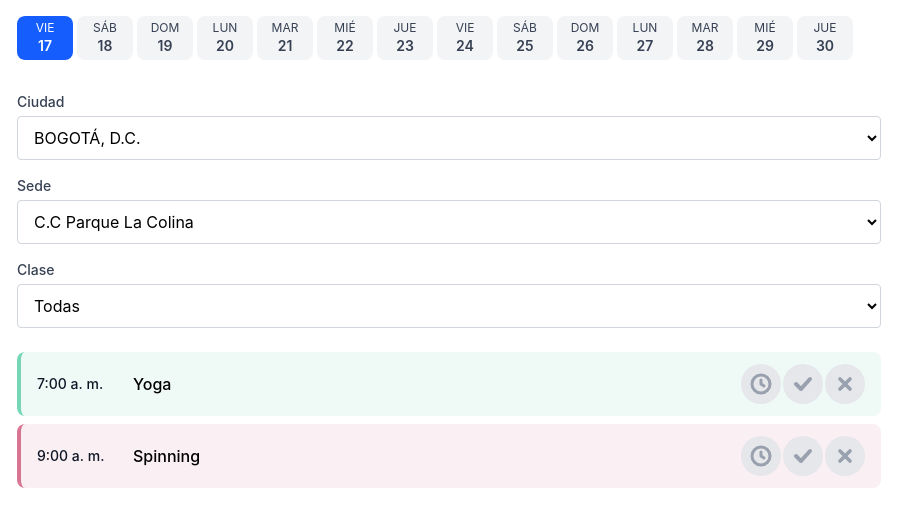
Test: SchedulePage › booking state › shows error and Retry button on the targeted row after failed create
This screenshot has width=899, height=509.
Click the button "7:00 a. m. Yoga".
click(70, 384)  # box [17,352,881,416]
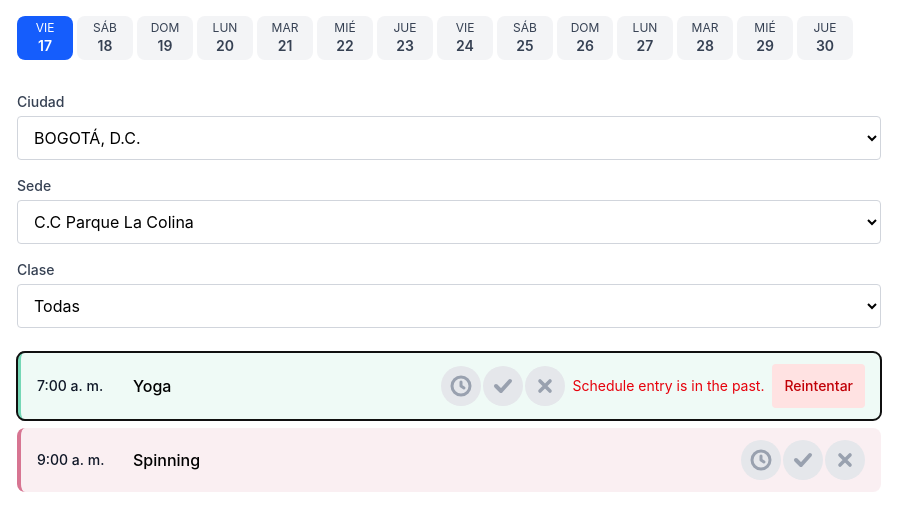
Expected: the text "Schedule entry is in the past." is shown, [572,376,764,396]
Expected: the button "Reintentar" is shown, [772,364,865,408]
